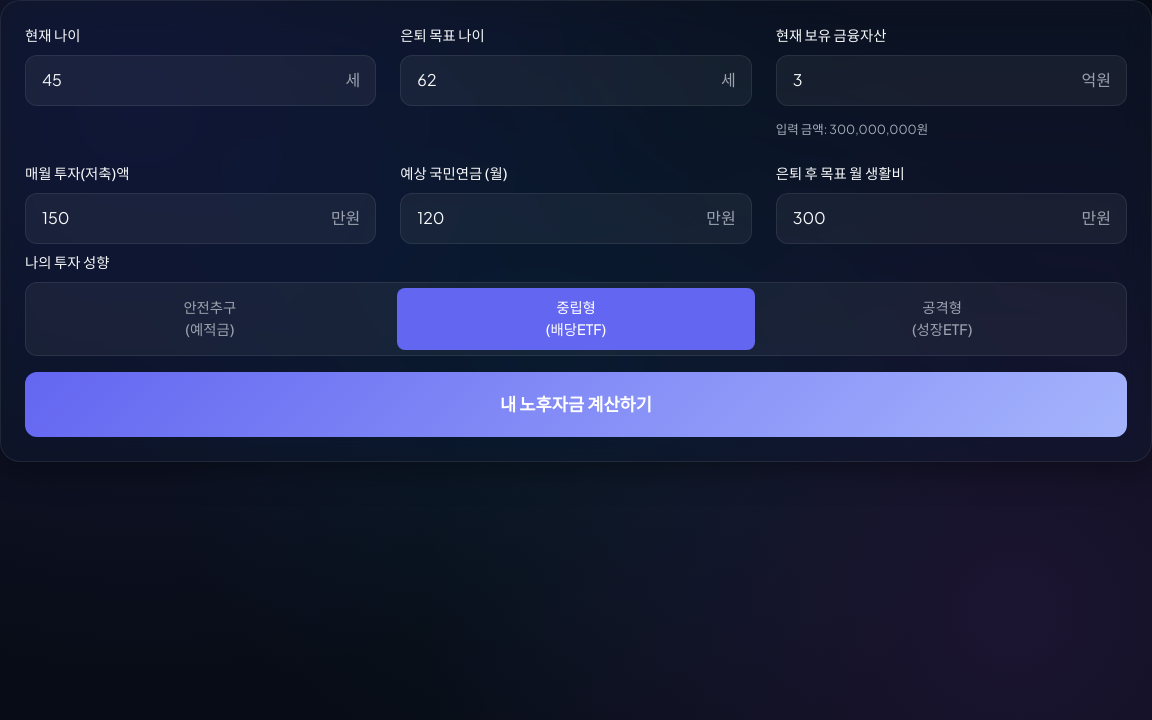
Test: SimpleSimulator 금액 입력 › 포커스를 잃으면 저장된 금액을 만원 단위 콤마 표기로 되돌린다
The image size is (1152, 720).
Clear the field named "monthlyInvestment" below "매월 투자(저축)액" at (201, 218), box [25,192,376,244]
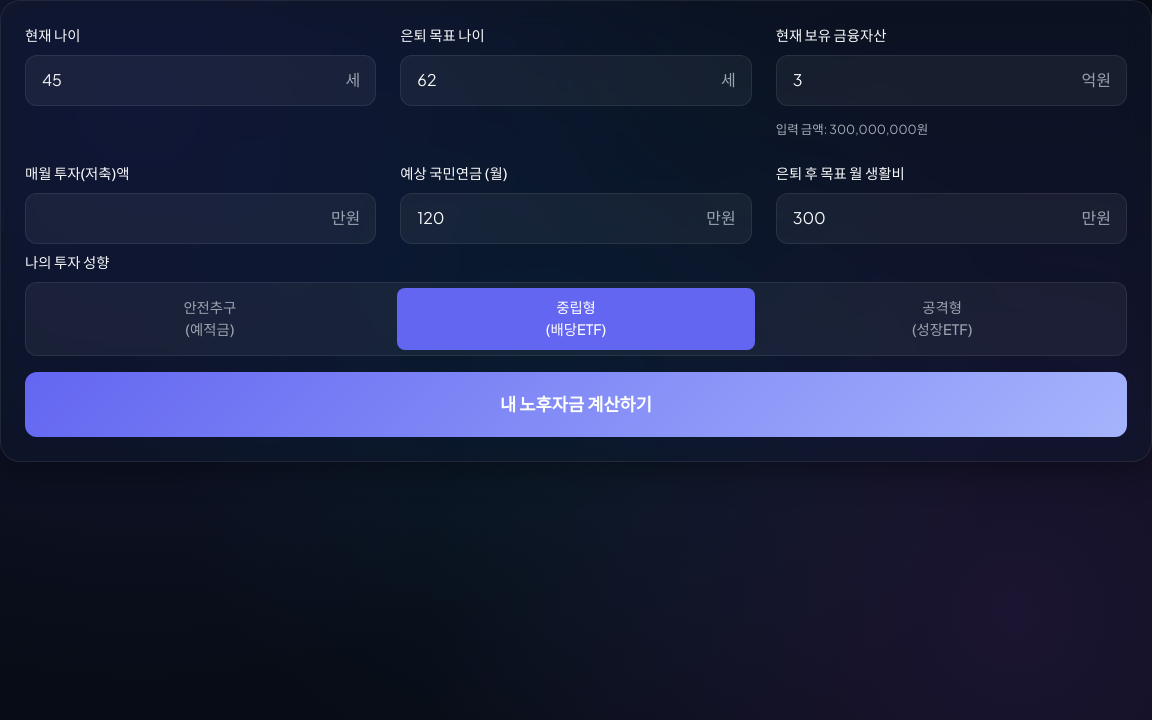
Leave the field named "monthlyInvestment" below "매월 투자(저축)액", box [25,192,376,244]
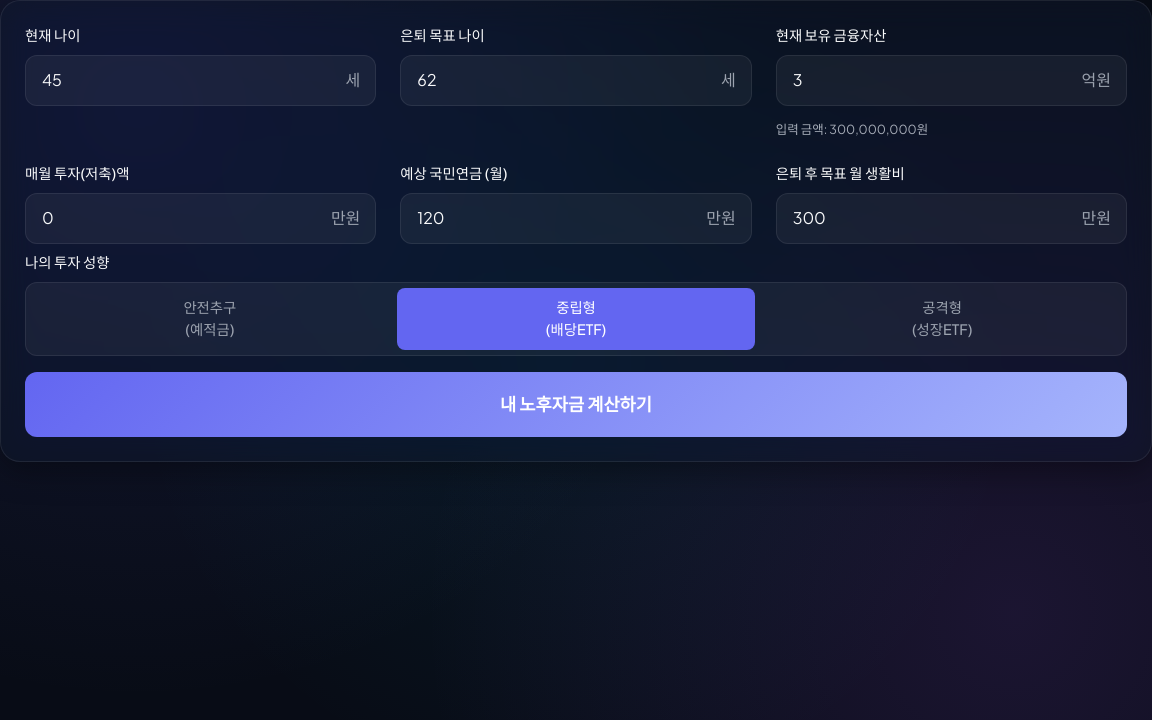
Check: the field named "monthlyInvestment" below "매월 투자(저축)액" holds "0", box [25,192,376,244]
